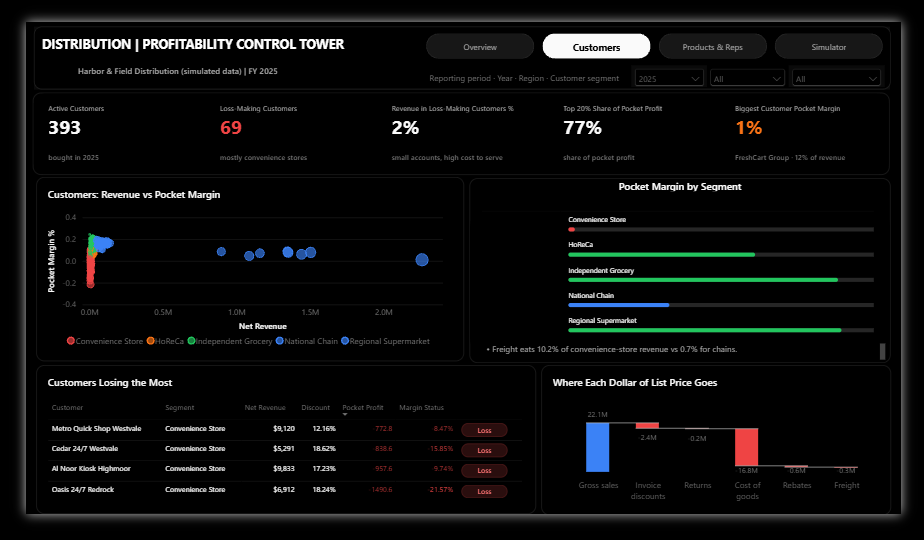

What the dashboard file says about the page in this screenshot:
{"tool":"powerbi","page":{"name":"Customers","canvas":[1280,720],"ordinal":1},"visuals":[{"type":"shape","box":[11.5,7.2,1252.6,91.8],"z":0,"group":"g1"},{"type":"shape","title":"Pocket Margin by Segment","box":[10,103.3,1252.6,120.5],"z":0},{"type":"cardVisual","fields":{"Data":["_Measures.Active Customers","_Measures.Loss-Making Customers","_Measures.Revenue in Loss-Making Customers %","_Measures.Top 20% Share of Pocket Profit","_Measures.Biggest Customer Pocket Margin"]},"box":[16,120,1248,98.8],"z":1000},{"type":"textbox","box":[23,21.3,522.6,30.1],"z":2000,"group":"g1"},{"type":"scatterChart","title":"Customers: Revenue vs Pocket Margin","fields":{"Category":["dim_customer.customer_name"],"Series":["dim_customer.segment"],"Size":["_Measures.Orders"],"X":["_Measures.Net Revenue"],"Y":["_Measures.Pocket Margin %"]},"box":[15.5,226.3,625.2,269.4],"z":2000},{"type":"cardVisual","fields":{"Data":["_Measures.Report Subtitle"]},"box":[60.4,58.9,521.8,24],"z":3000,"group":"g1"},{"type":"shape","title":"Pocket Margin by Segment","box":[648,228,616,270],"z":3000},{"type":"slicer","fields":{"Values":["dim_date.date.Variation.Date Hierarchy.Year"]},"box":[884,63.2,110.8,31.6],"z":4000,"group":"g1"},{"type":"tableEx","fields":{"Values":["dim_customer.segment","_Measures.SVG Segment Bar","_Measures.Pocket Margin %"]},"box":[650,233.9,605.5,266.9],"z":4000},{"type":"pageNavigator","box":[585.3,17.8,669.5,37.3],"z":5000,"group":"g1"},{"type":"textbox","box":[662.9,470.6,592.6,27.3],"z":5000},{"type":"slicer","fields":{"Values":["dim_customer.region"]},"box":[994.9,63.2,119.5,31.6],"z":6000,"group":"g1"},{"type":"tableEx","title":"Customers Losing the Most","fields":{"Values":["dim_customer.customer_name","dim_customer.segment","_Measures.Net Revenue","_Measures.Discount %","_Measures.Pocket Profit","_Measures.Pocket Margin %","_Measures.SVG Customer Pill"]},"box":[15.5,500.9,730.6,217.6],"z":6000},{"type":"slicer","fields":{"Values":["dim_customer.segment"]},"box":[1114.4,63.2,140.5,32],"z":7000,"group":"g1"},{"type":"waterfallChart","title":"Where Each Dollar of List Price Goes","fields":{"Category":["Waterfall Steps.Step"],"Y":["_Measures.Waterfall Value"]},"box":[753,500.9,511.2,219.4],"z":7000},{"type":"group","id":"g1","title":"Group 1","box":[11.5,7.2,1252.6,91.8],"z":8000},{"type":"textbox","box":[590.3,73.2,293.6,22.2],"z":8000,"group":"g1"}]}

Visuals, with their boxes on the page's 1280x720 design canvas (x1, y1, x2, y2). These are canvas units, not pixel positions in the 924x540 screenshot, which may show the page scaled, cropped or inside an application window:
shape: select_region(12, 7, 1264, 99)
"Pocket Margin by Segment" shape: select_region(10, 103, 1263, 224)
cardVisual - _Measures.Active Customers x _Measures.Loss-Making Customers: select_region(16, 120, 1264, 219)
textbox: select_region(23, 21, 546, 51)
"Customers: Revenue vs Pocket Margin" scatterChart: select_region(16, 226, 641, 496)
cardVisual - _Measures.Report Subtitle: select_region(60, 59, 582, 83)
"Pocket Margin by Segment" shape: select_region(648, 228, 1264, 498)
slicer - dim_date.date.Variation.Date Hierarchy.Year: select_region(884, 63, 995, 95)
tableEx - dim_customer.segment x _Measures.SVG Segment Bar: select_region(650, 234, 1256, 501)
pageNavigator: select_region(585, 18, 1255, 55)
textbox: select_region(663, 471, 1256, 498)
slicer - dim_customer.region: select_region(995, 63, 1114, 95)
"Customers Losing the Most" tableEx: select_region(16, 501, 746, 718)
slicer - dim_customer.segment: select_region(1114, 63, 1255, 95)
"Where Each Dollar of List Price Goes" waterfallChart: select_region(753, 501, 1264, 720)
"Group 1" group: select_region(12, 7, 1264, 99)
textbox: select_region(590, 73, 884, 95)
